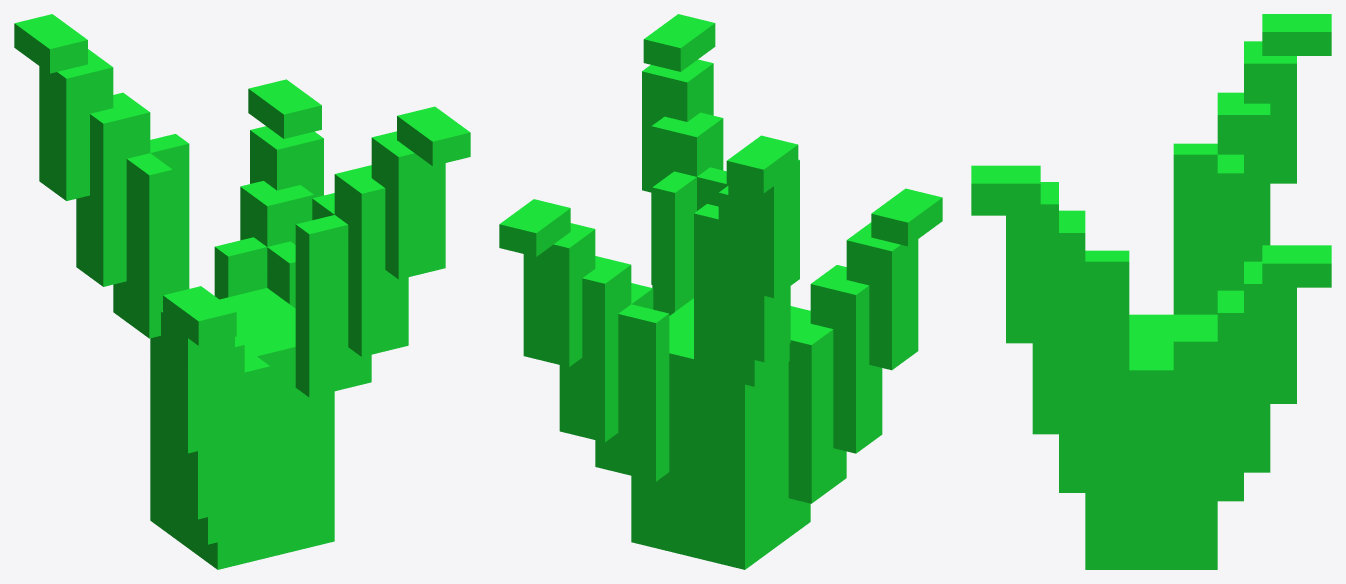
Rendered from Grass.fbx.
3 renders of one model, left to right at view 1: azimuth 30°, elevation 25°; view 2: azimuth 150°, elevation 25°; view 3: azimuth 270°, elevation 25°, orthographic. The views are drawn at different scales.
Visible parts, largest first — view 1: 큐브.001; view 2: 큐브.001; view 3: 큐브.001.
Boxes of the visible parts, x1=… form: 큐브.001: x1=14, y1=14, x2=470, y2=569; 큐브.001: x1=499, y1=14, x2=942, y2=569; 큐브.001: x1=971, y1=14, x2=1331, y2=569.
Bounding box in the file's own units: 23.25 × 38.67 × 27.25.
1 material, 1 textured.
